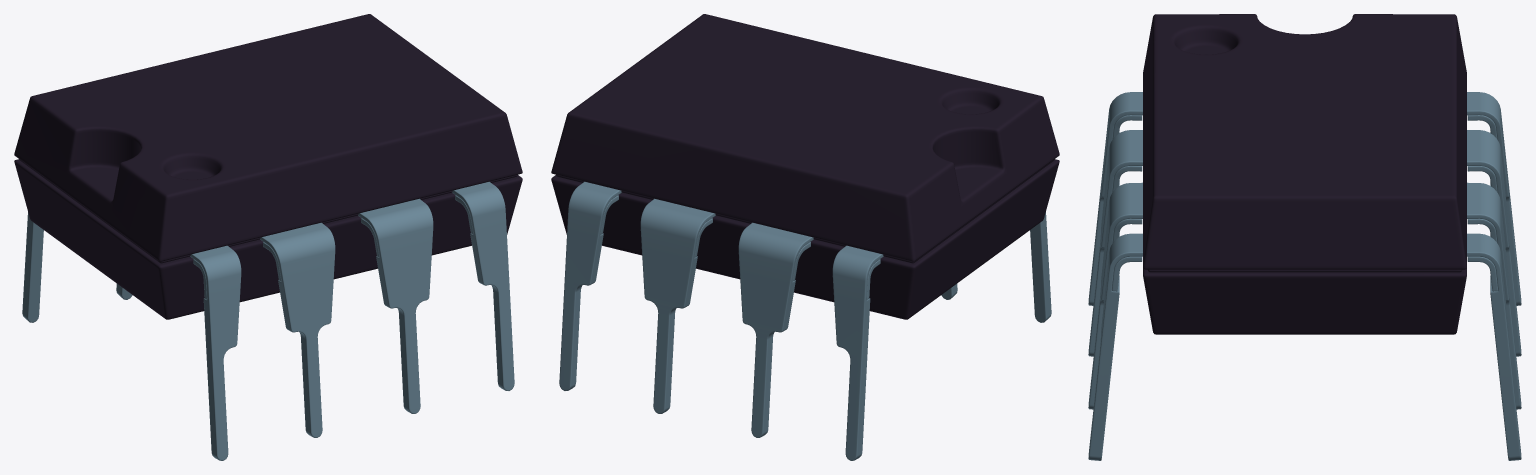
The picture shows the model from 3 angles, left to right: view 1: azimuth 30°, elevation 25°; view 2: azimuth 150°, elevation 25°; view 3: azimuth 270°, elevation 25°; orthographic projection. The views are drawn at different scales.
Parts seen in each view (by area): view 1: body_002_mesh.001, connector_mesh; view 2: body_002_mesh.001, connector_mesh; view 3: body_002_mesh.001, connector_mesh.
Boxes of the visible parts, <box> form: body_002_mesh.001: <box>14,14,522,319</box>; connector_mesh: <box>22,181,514,460</box>; body_002_mesh.001: <box>551,14,1059,319</box>; connector_mesh: <box>559,181,1051,460</box>; body_002_mesh.001: <box>1143,14,1466,334</box>; connector_mesh: <box>1088,92,1521,460</box>.
Size of the model in its own units: 7.81 by 5.15 by 7.28.
